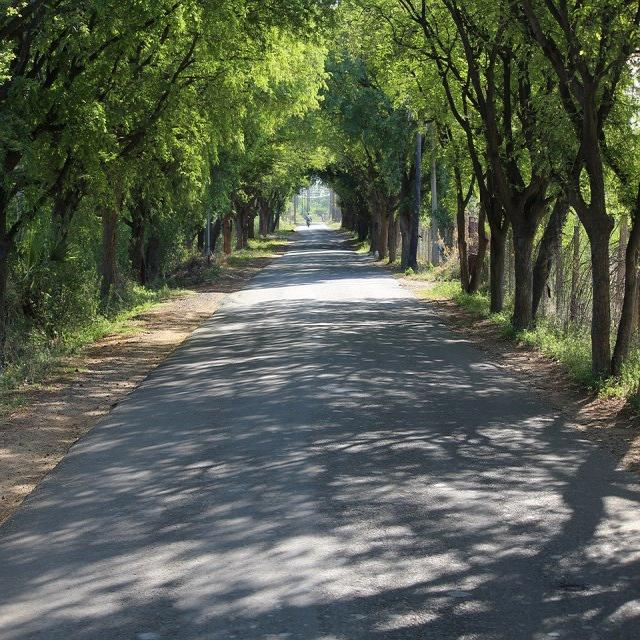Clean road: (0, 240, 640, 640)
